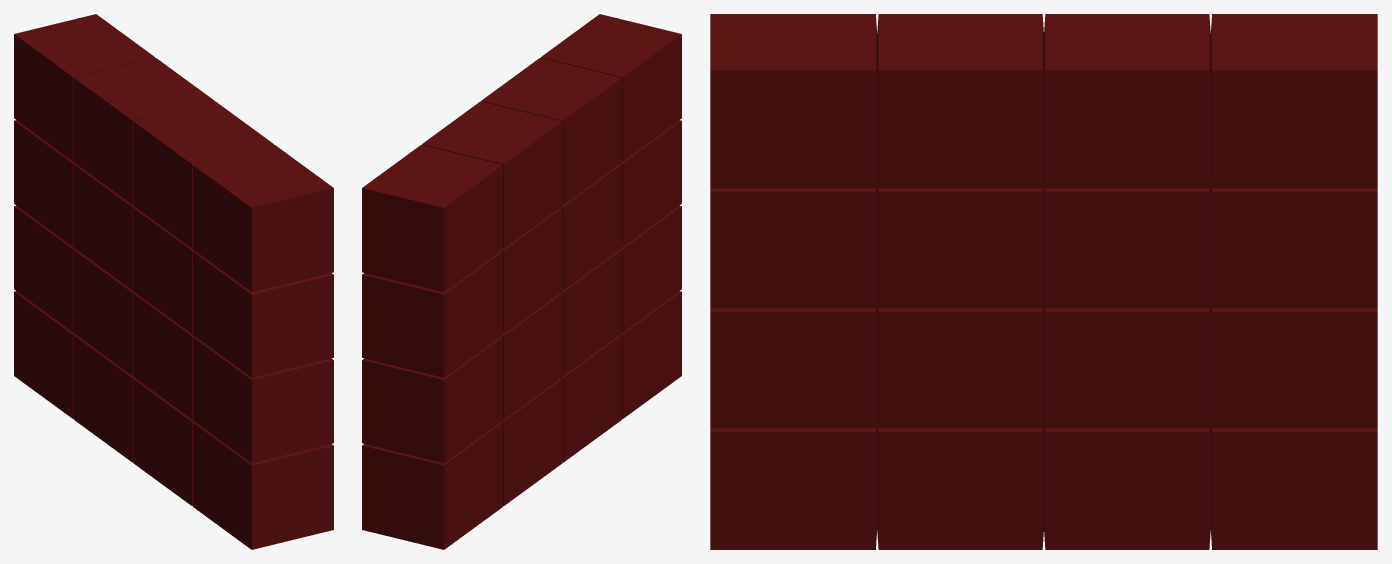
File: Brick_Wall.FBX
3 views of the same model, side by side, from view 1: azimuth 30°, elevation 25°; view 2: azimuth 150°, elevation 25°; view 3: azimuth 270°, elevation 25° (orthographic). The views are drawn at different scales.
Parts seen in each view (by area): view 1: Brick_Wall; view 2: Brick_Wall; view 3: Brick_Wall.
Part boxes in pixels (<box>): Brick_Wall: <box>14,14,333,549</box>; Brick_Wall: <box>362,14,681,549</box>; Brick_Wall: <box>710,14,1377,549</box>.
Size of the model in its own units: 23.58 by 93.84 by 118.
